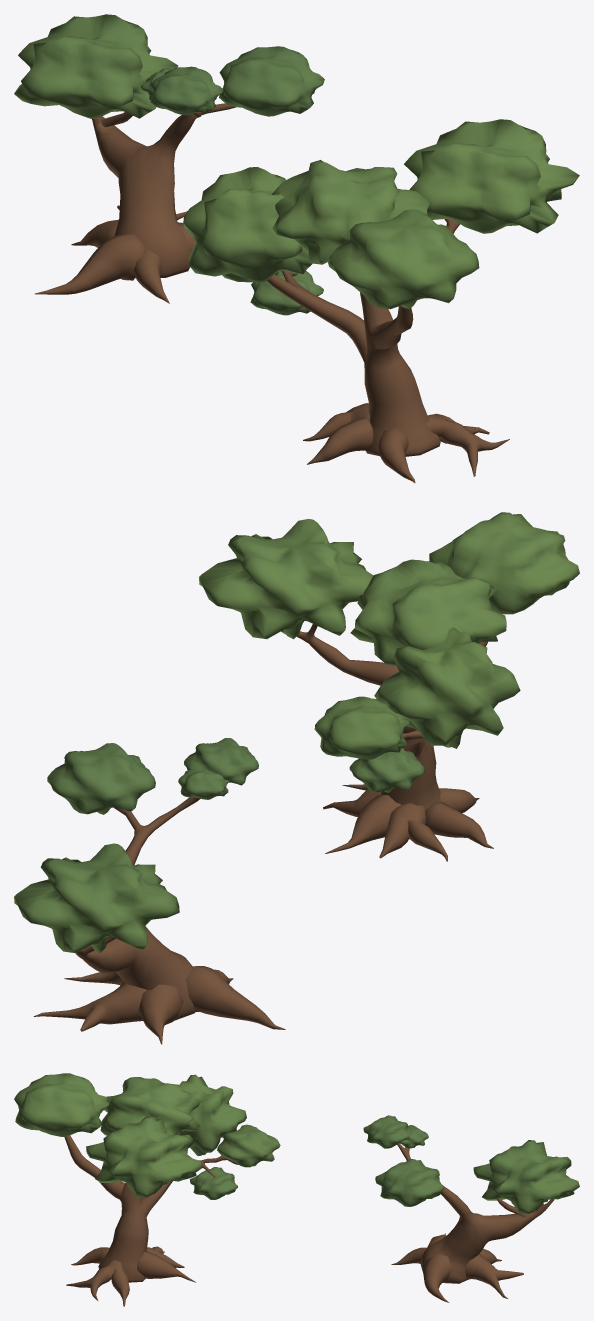
3 views of the same model, one above another, from view 1: azimuth 30°, elevation 25°; view 2: azimuth 150°, elevation 25°; view 3: azimuth 270°, elevation 25° (orthographic). The views are drawn at different scales.
Visible parts, largest first — view 1: Object_4; view 2: Object_4; view 3: Object_4.
Part boxes in pixels (<box>): Object_4: <box>14,14,579,482</box>; Object_4: <box>14,512,579,1044</box>; Object_4: <box>14,1073,579,1306</box>.
Size of the model in its own units: 3.88 by 3.16 by 8.83.
1 material, 1 textured.
